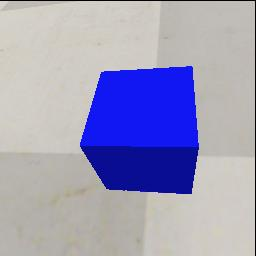box: (80, 65, 199, 195)
